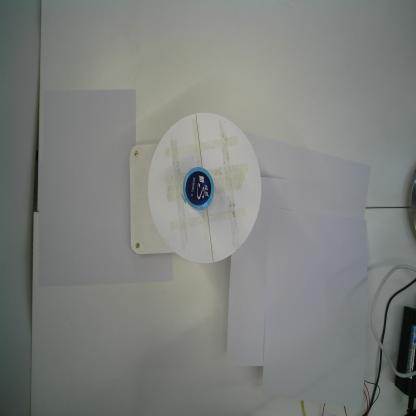Gum: (181, 166, 215, 211)
